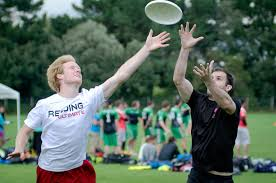disc: (143, 0, 183, 26)
